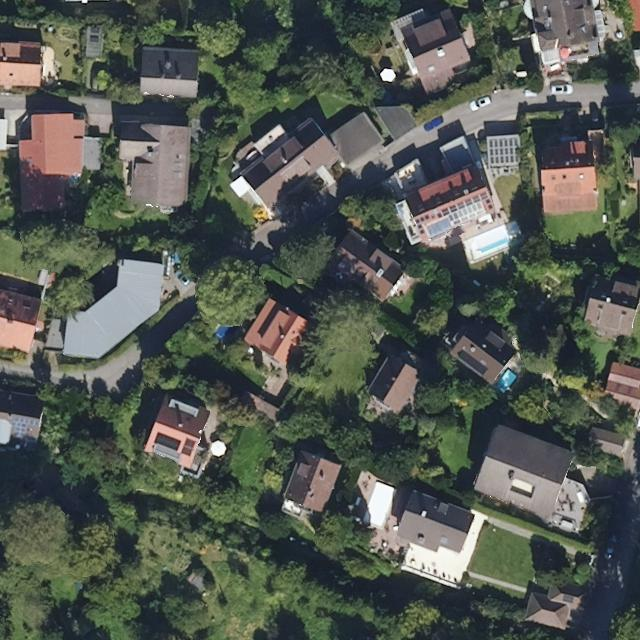PV: (413, 189, 495, 236), (488, 136, 519, 173), (6, 414, 41, 440), (153, 432, 182, 452), (179, 437, 197, 458)
